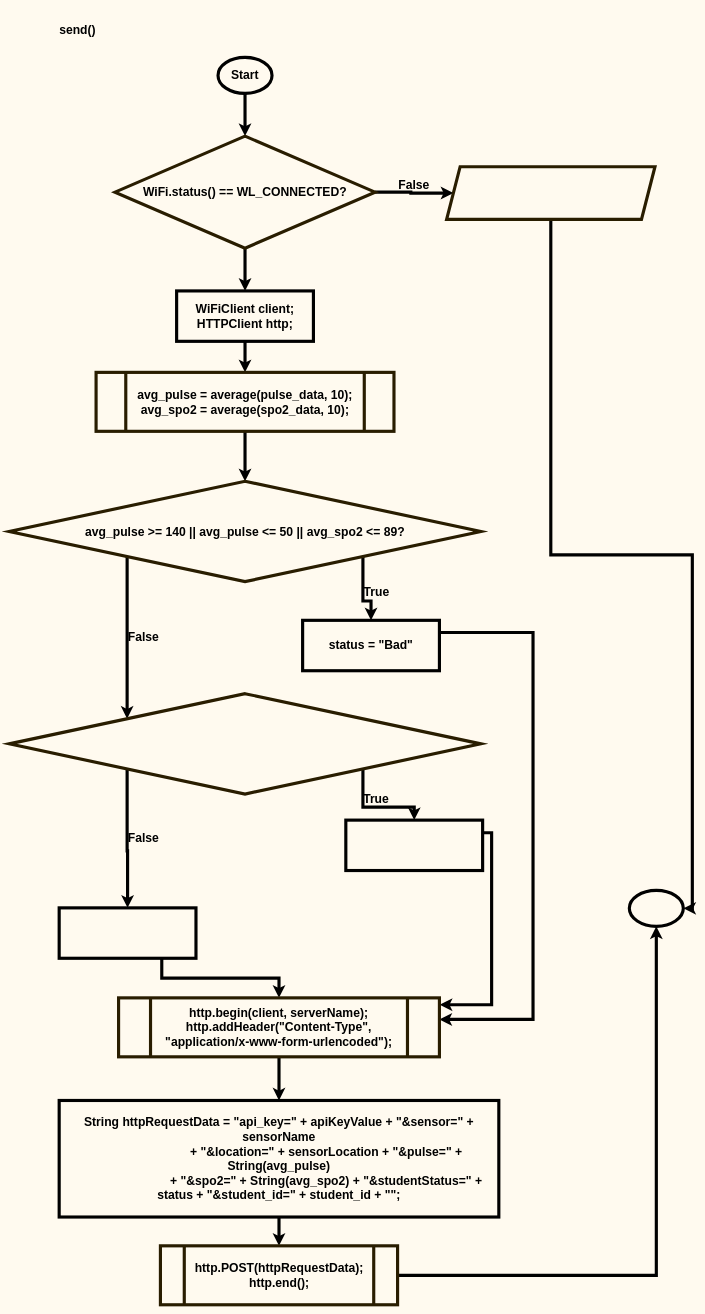
The diagram is 705 pixels wide and 1314 high, and some of its shapes have lost their labels. Here are the shapes that lost their labels. From the top down, the centre of each, then its label:
(550,193): "Wifi disconnected"
(244,743): avg_pulse >= 110 || avg_pulse <= 60 || avg_spo2 <= 93
(414,845): status = "Warning"
(656,908): End
(127,933): status = "Good"
